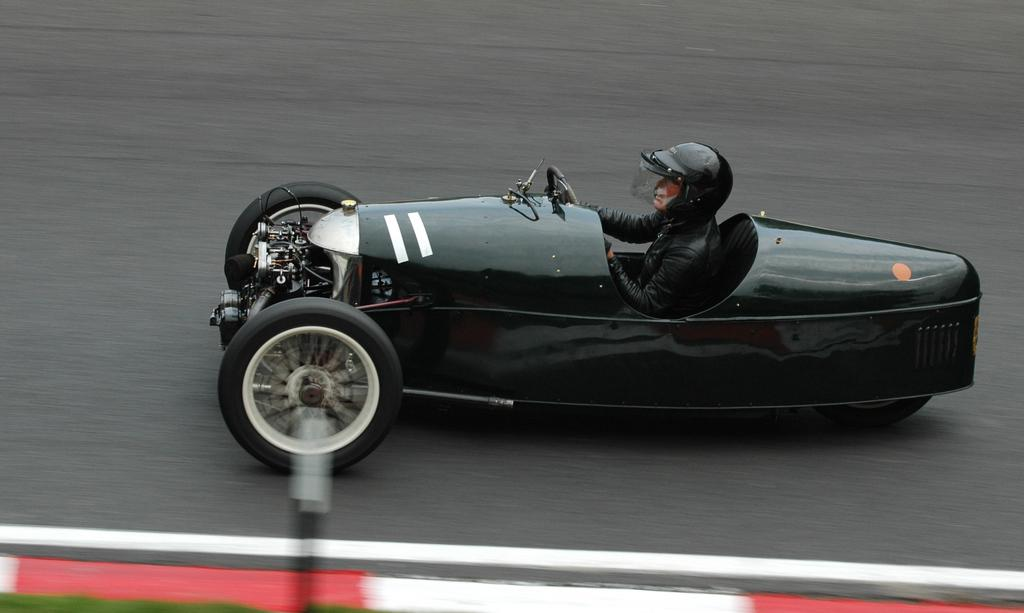helmet: (629, 141, 734, 221)
